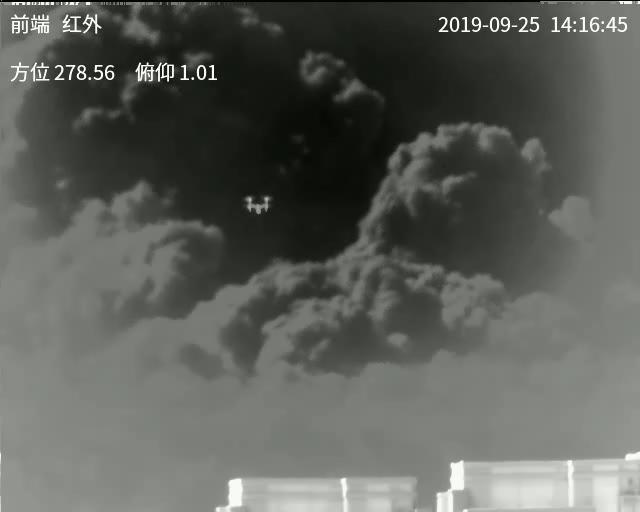uav: (243, 190, 272, 217)
